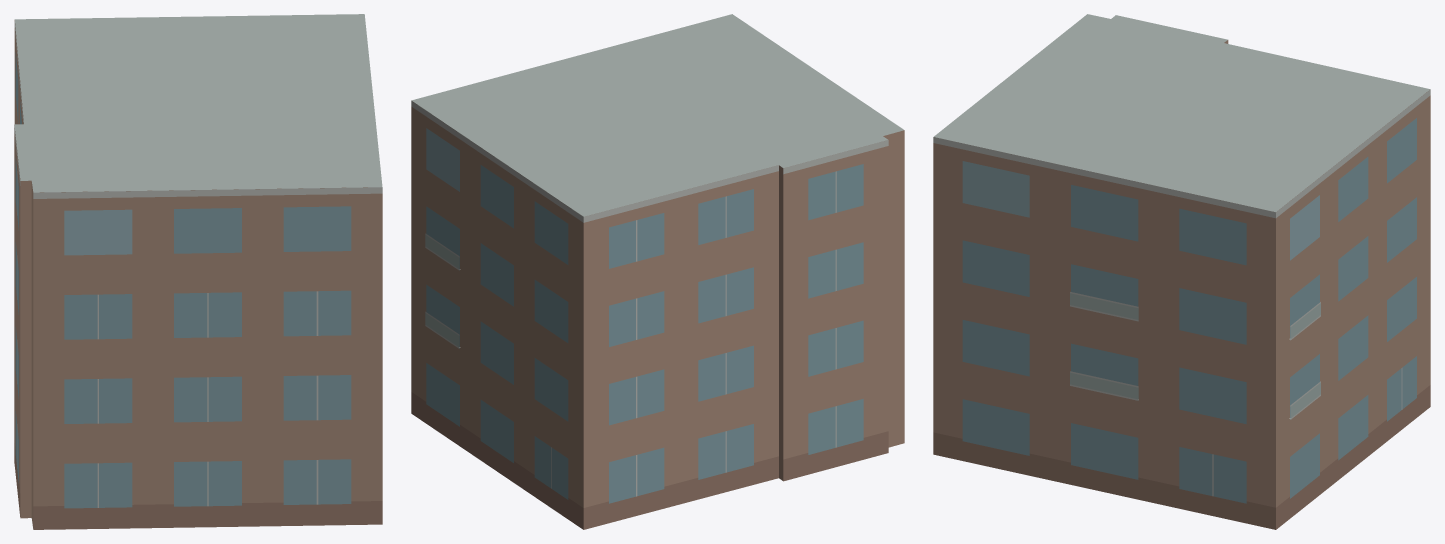
File: survey-upis-32744026.glb
The picture shows the model from 3 angles, left to right: view 1: azimuth 30°, elevation 25°; view 2: azimuth 150°, elevation 25°; view 3: azimuth 270°, elevation 25°; orthographic projection. The views are drawn at different scales.
Visible parts, largest first — view 1: survey-upis-32744026.tmp; view 2: survey-upis-32744026.tmp; view 3: survey-upis-32744026.tmp.
Boxes of the visible parts, <box> form: survey-upis-32744026.tmp: <box>14,14,382,529</box>; survey-upis-32744026.tmp: <box>411,14,904,529</box>; survey-upis-32744026.tmp: <box>933,14,1430,529</box>.
Size of the model in its own units: 17.01 by 12.7 by 18.02.
